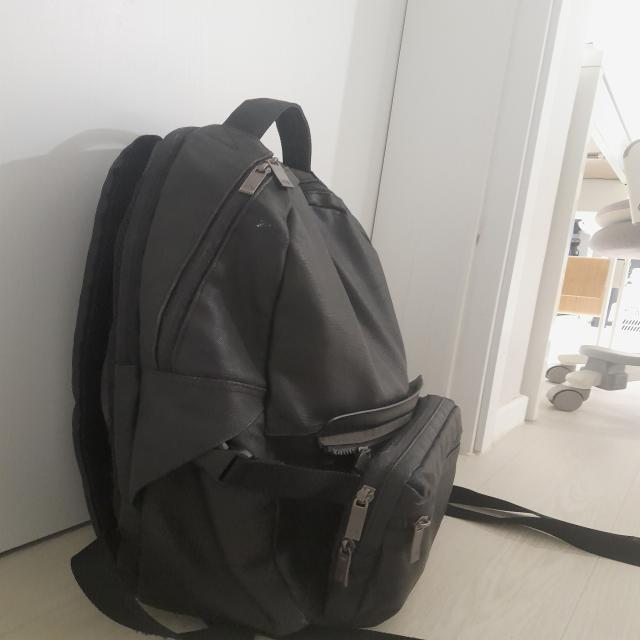backpack: (74, 97, 640, 640)
